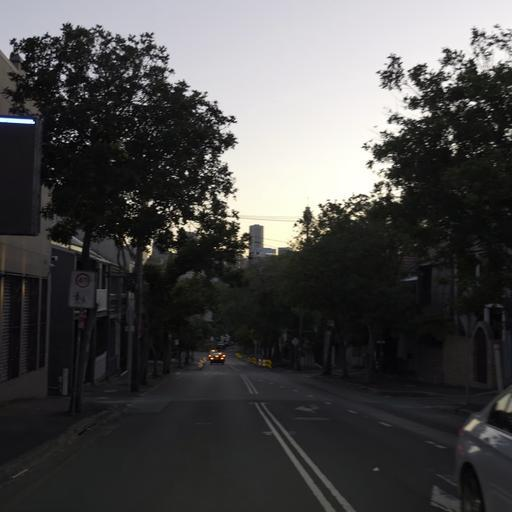Street light: (128, 250, 169, 392), (482, 301, 506, 390), (322, 318, 335, 374), (207, 348, 226, 364)
